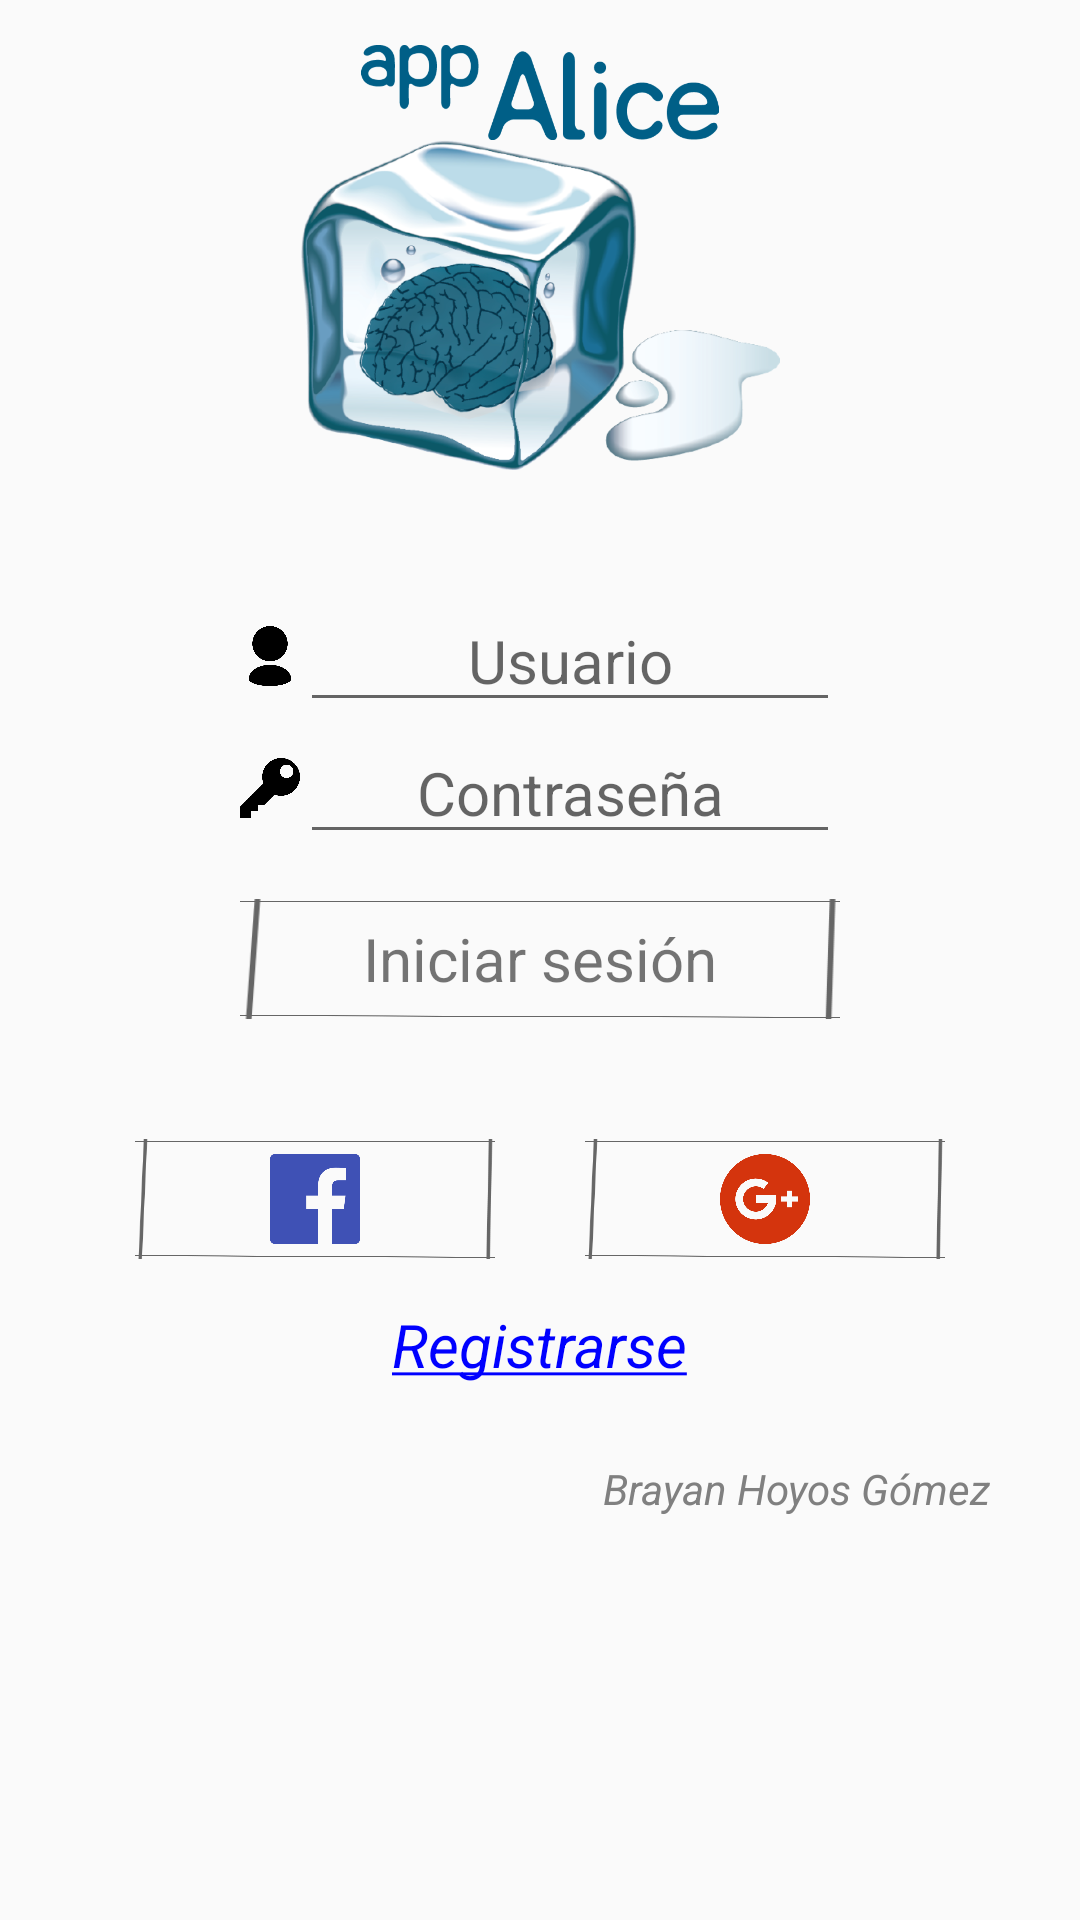

Icons on this 1080*1920 Android screen, each with the point to tap as point (x, y):
key: point (270, 788)
usu: point (270, 656)
